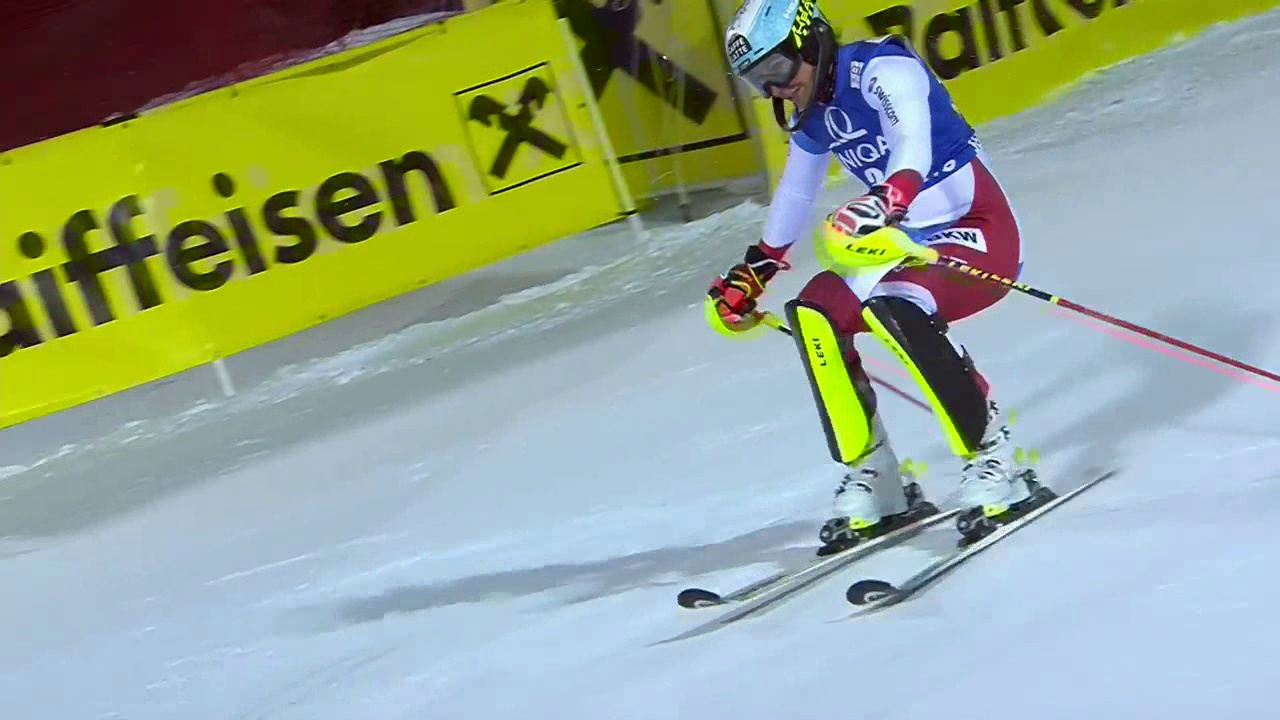raiffeisen: (461, 63, 582, 203)
uniqa: (813, 105, 896, 185)
